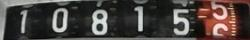digits: (172, 8, 190, 34), (50, 7, 68, 32), (91, 9, 108, 34), (210, 0, 230, 21), (133, 5, 144, 31), (19, 9, 27, 33)
